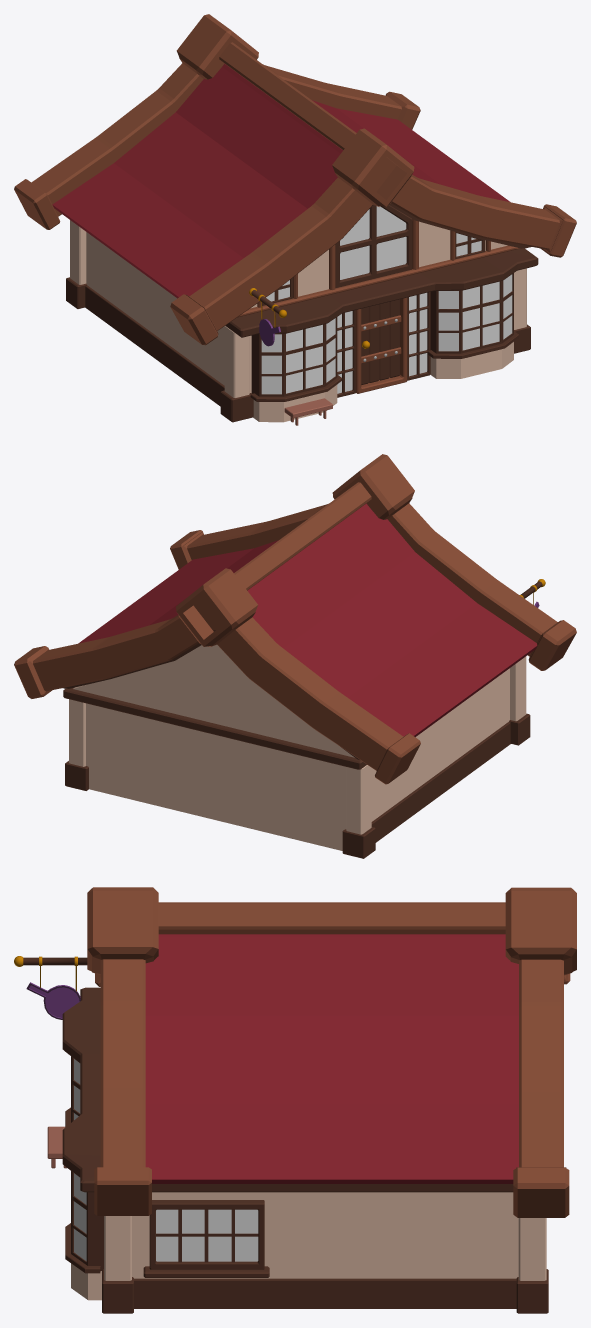
Rendered from PotionShop_Upgrade_1.fbx.
3 views of the same model, one above another, from view 1: azimuth 30°, elevation 25°; view 2: azimuth 150°, elevation 25°; view 3: azimuth 270°, elevation 25° (orthographic). The views are drawn at different scales.
Parts seen in each view (by area): view 1: Window L.002; view 2: Window L.002; view 3: Window L.002.
Part boxes in pixels (box(x1,y1,x2,y2)): Window L.002: box(14, 14, 576, 425); Window L.002: box(14, 454, 576, 858); Window L.002: box(14, 887, 576, 1313).
Size of the model in its own units: 697 by 419 by 652.
